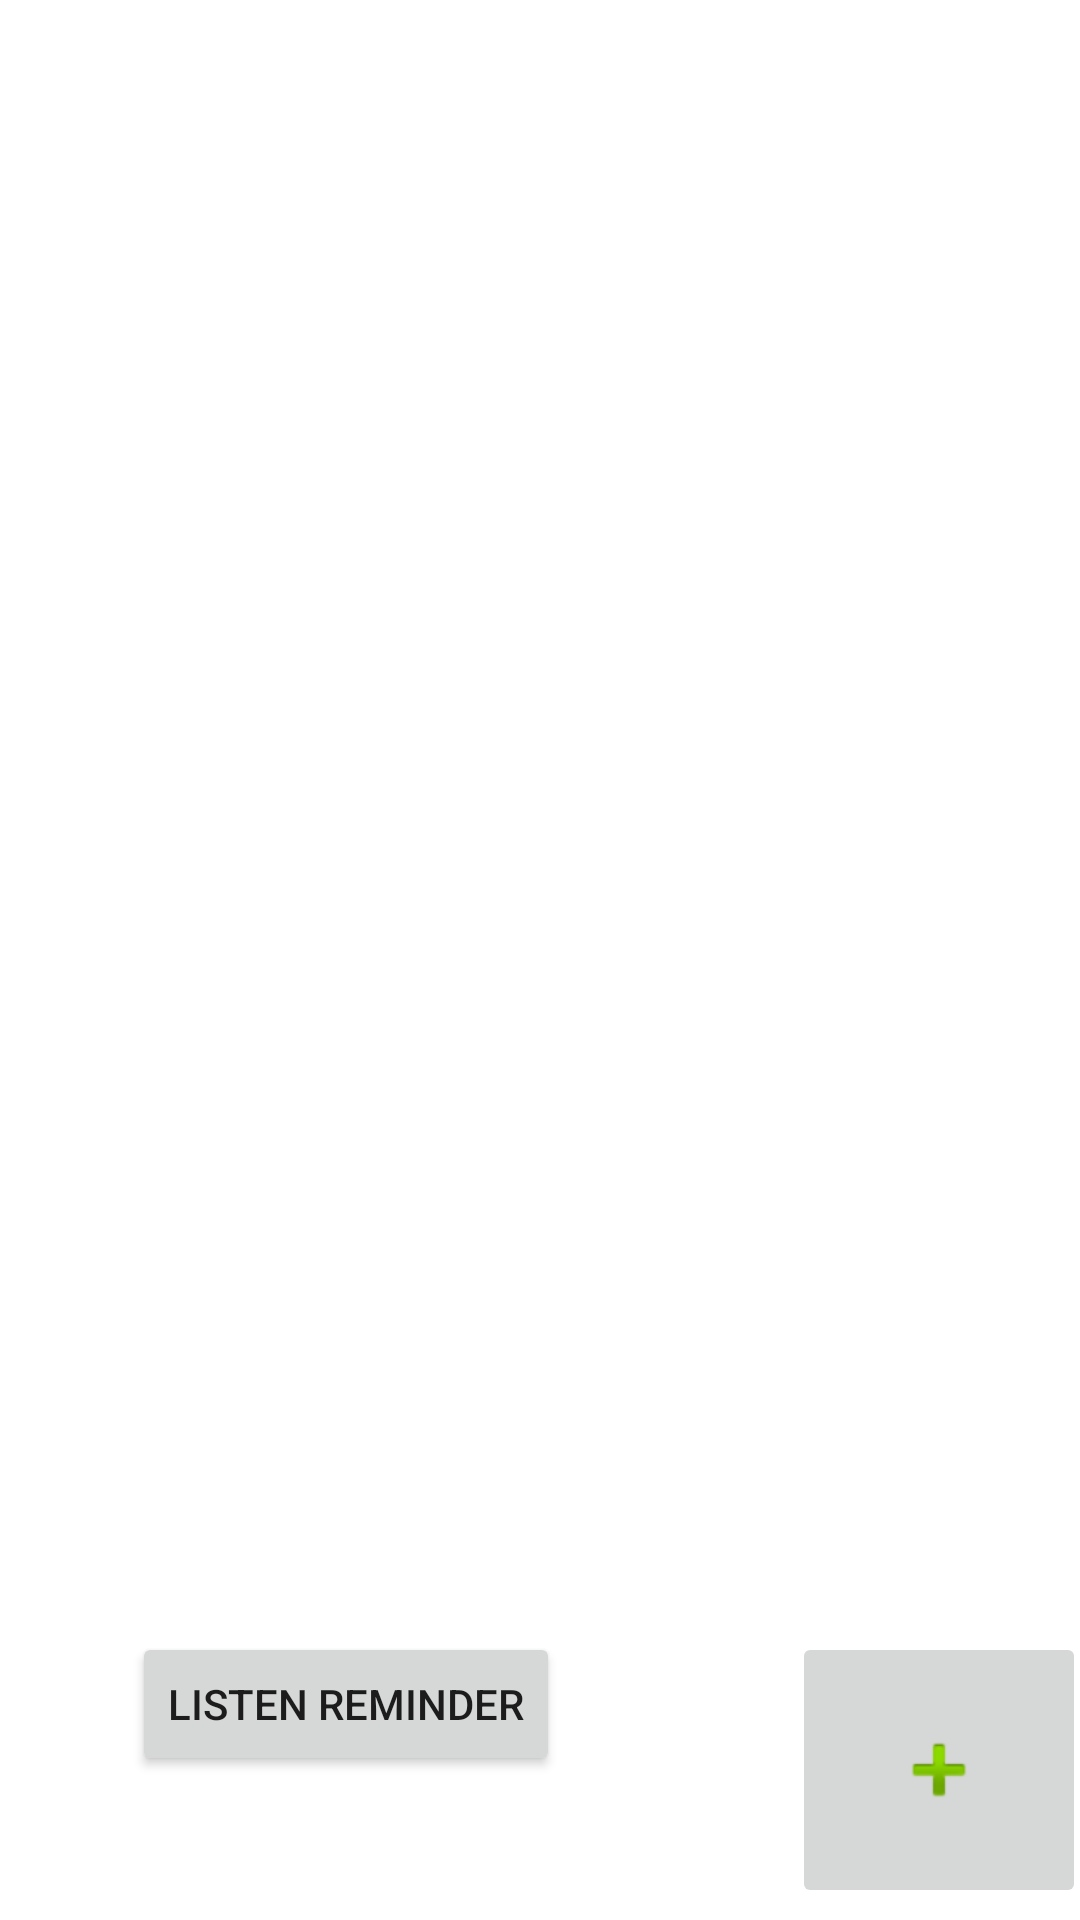

Screen size 1080px x 1920px. Icon name, then its center in pixels as point (x, y):
add: point (939, 1770)
